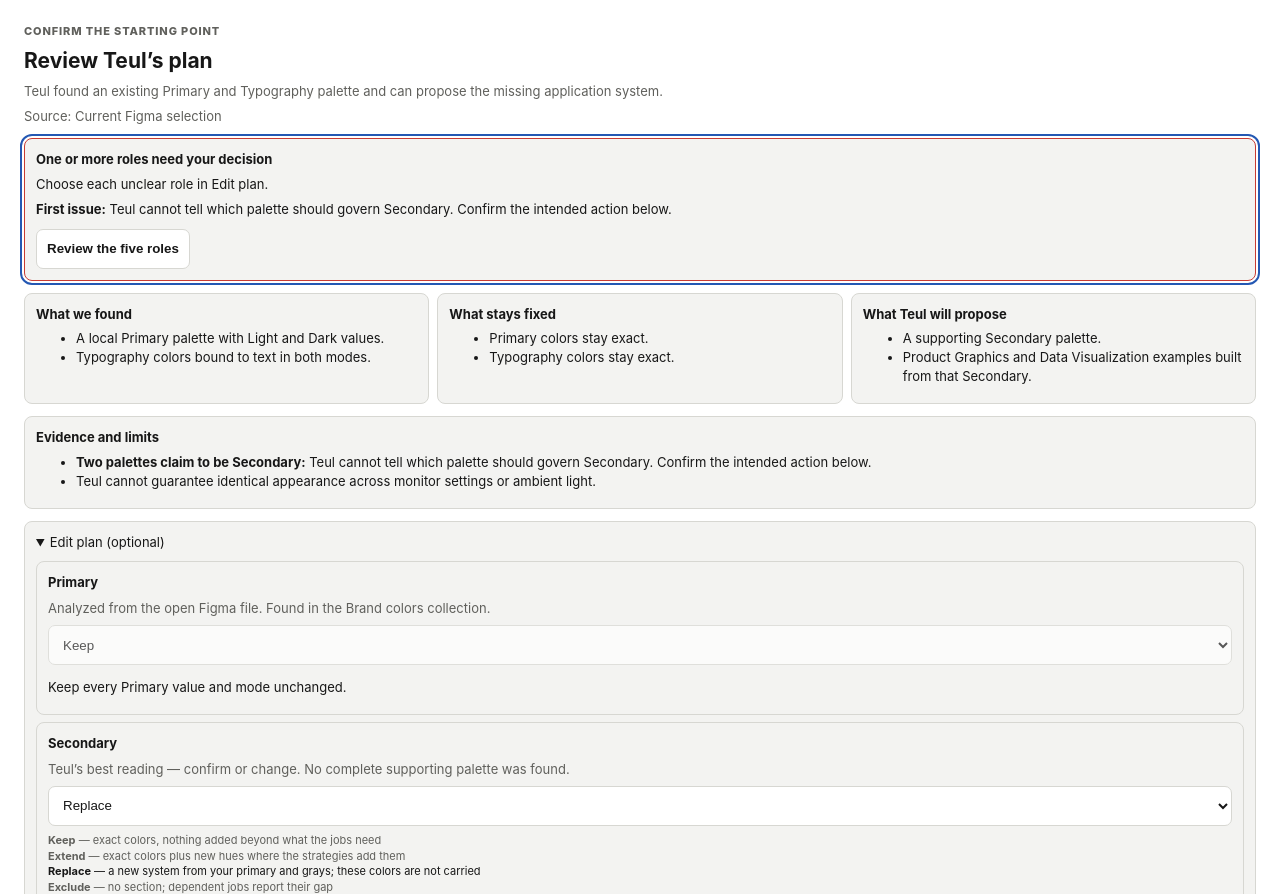
Test case: ColorSystemGenericPlanReviewV2 › does not treat a preselected or reselected ambiguous default as an owner correction
The image size is (1280, 894).
Step 1. Select "Replace" in the dropdown labelled "Secondary" → (640, 806), box [48,786,1232,826]
Step 2. Select "Extend" in the dropdown labelled "Secondary" → (640, 806), box [48,786,1232,826]
(page scrolled)
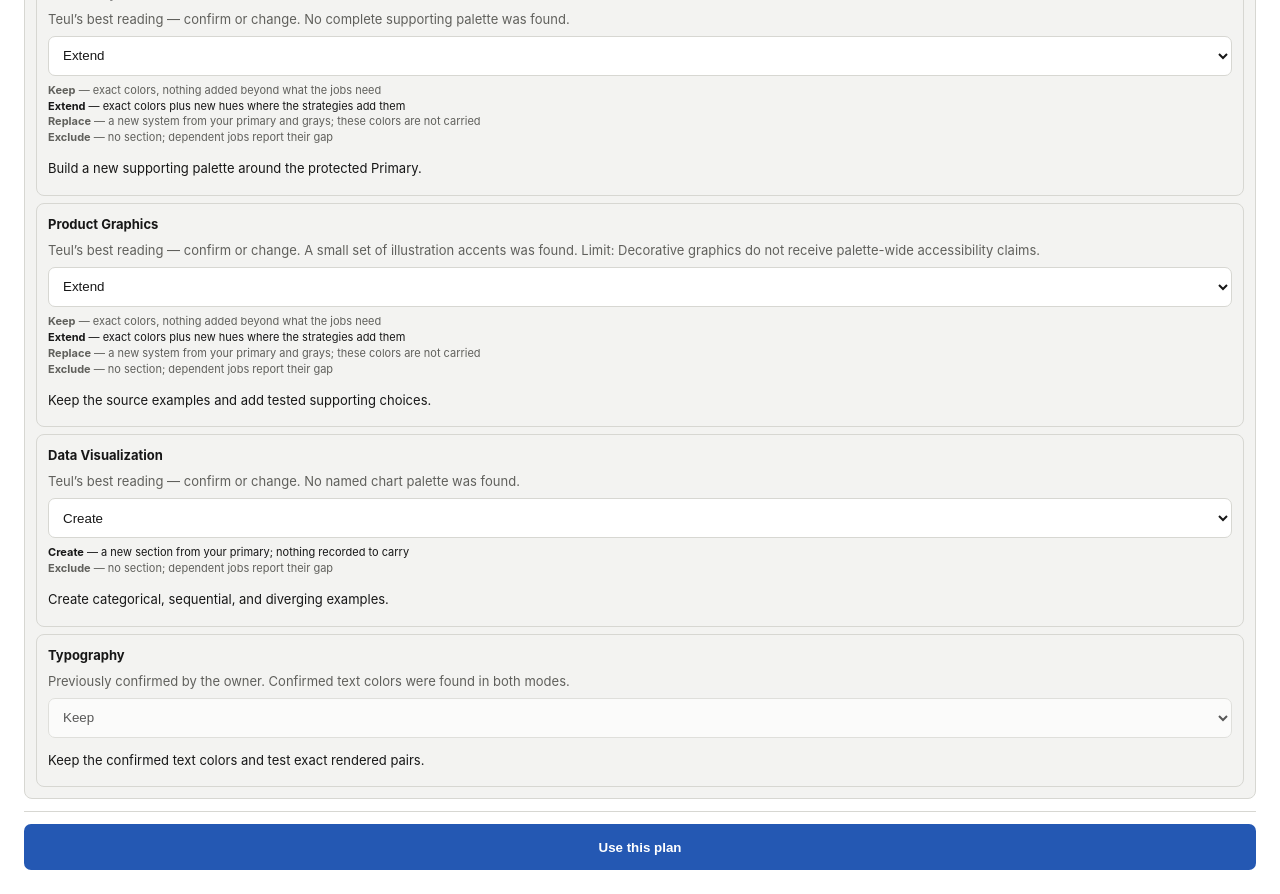
Expected: the submit button is enabled, [24,824,1256,870]
